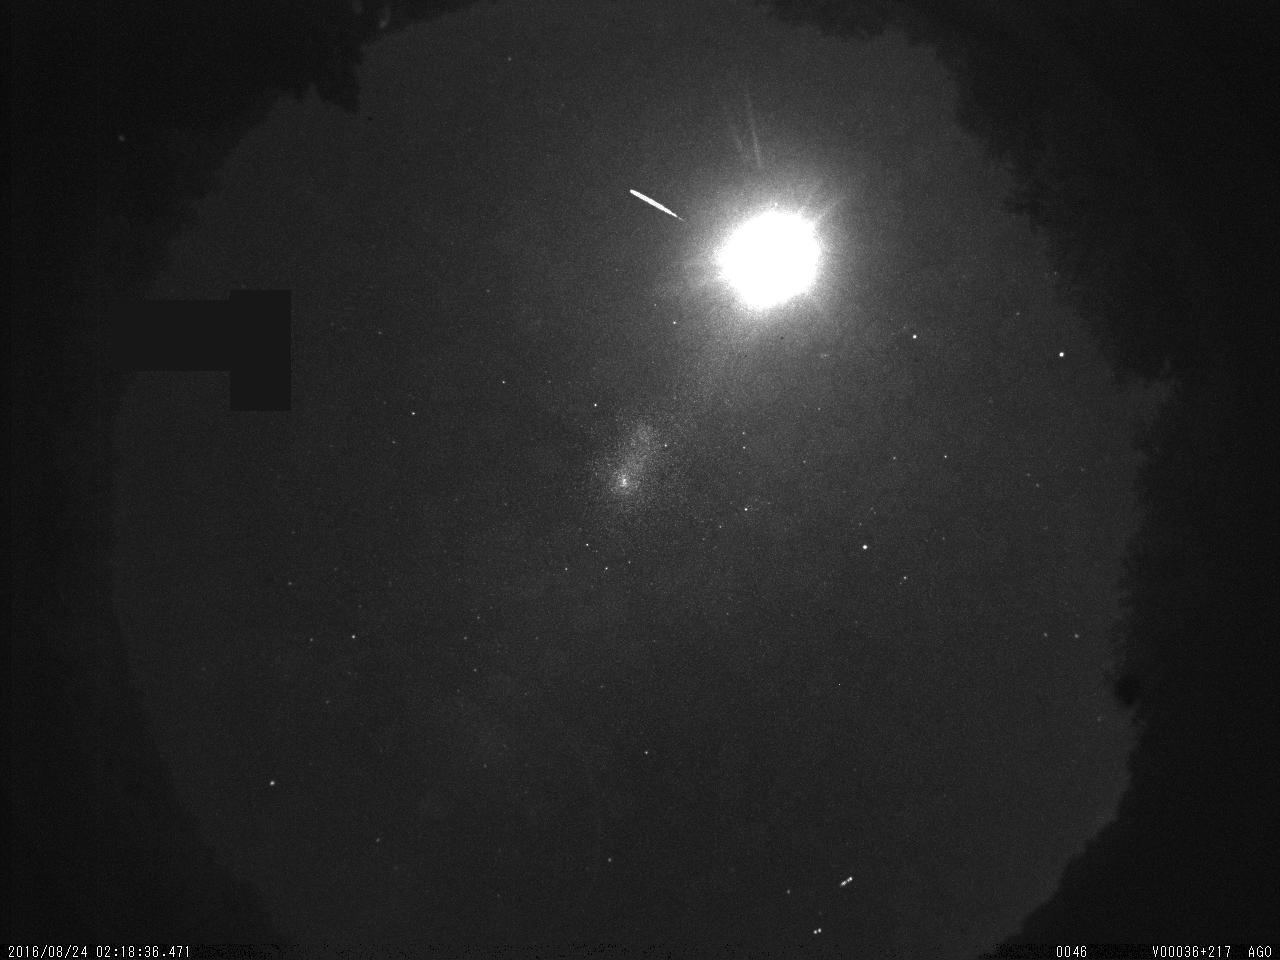Meteor: (627, 186, 686, 222)
